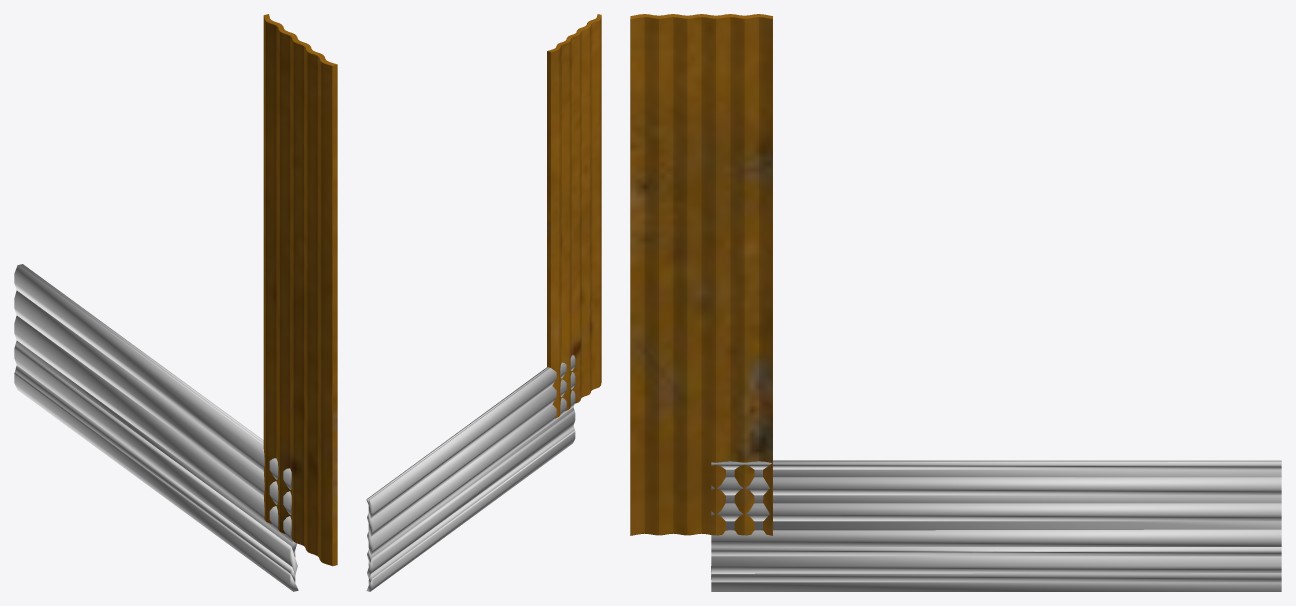
The model's file is SM_MetalPlate_Small.fbx.
The picture shows the model from 3 angles, left to right: view 1: azimuth 30°, elevation 25°; view 2: azimuth 150°, elevation 25°; view 3: azimuth 270°, elevation 25°; orthographic projection. The views are drawn at different scales.
Visible parts, largest first — view 1: SM_MetalPlate_Small, SM_MetalPlate_Small_ConvexHulls; view 2: SM_MetalPlate_Small, SM_MetalPlate_Small_ConvexHulls; view 3: SM_MetalPlate_Small_ConvexHulls, SM_MetalPlate_Small.
Part boxes in pixels (x1,y1,x2,y2): SM_MetalPlate_Small: (263, 14, 337, 566); SM_MetalPlate_Small_ConvexHulls: (14, 264, 298, 591); SM_MetalPlate_Small: (547, 14, 601, 418); SM_MetalPlate_Small_ConvexHulls: (366, 355, 575, 591); SM_MetalPlate_Small_ConvexHulls: (711, 460, 1281, 591); SM_MetalPlate_Small: (630, 14, 772, 535).
Bounding box in the file's own units: 0.061 × 3.33 × 3.42.
